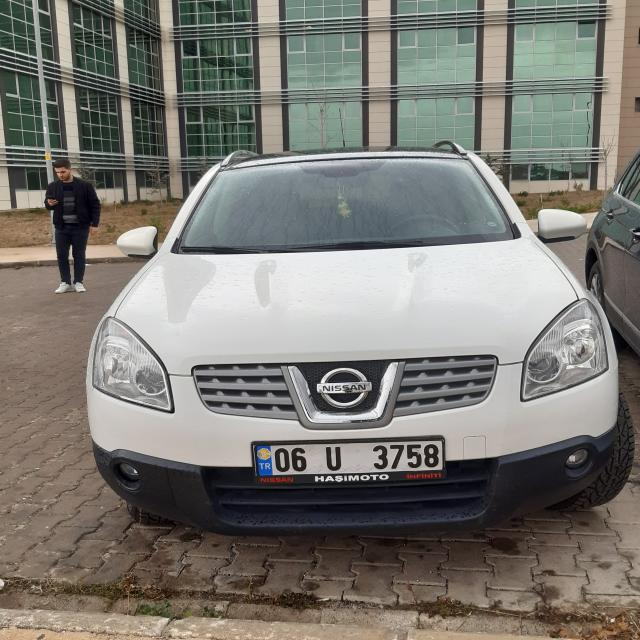license_plate: (252, 440, 444, 478)
